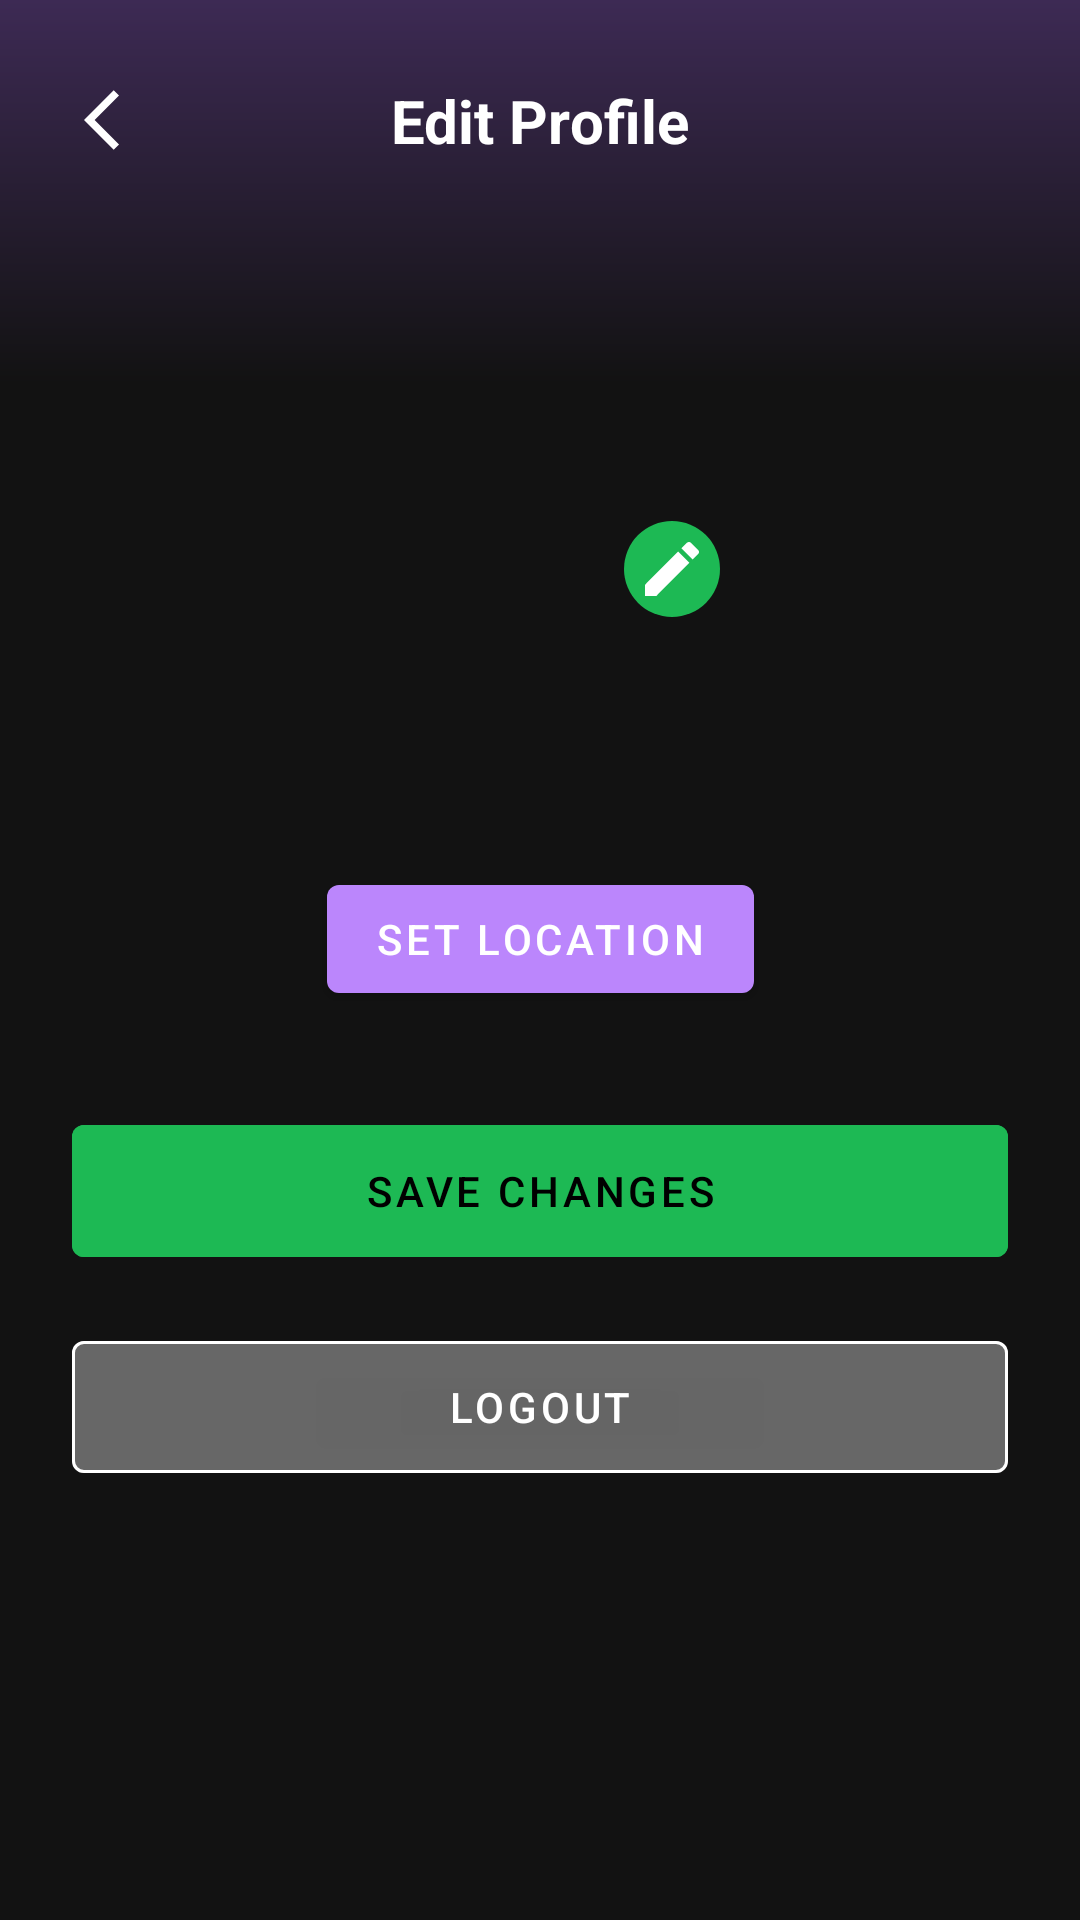

Named icons in this screenshot (1080×1920) and their centers, [x,y]:
edit: [672,569]
